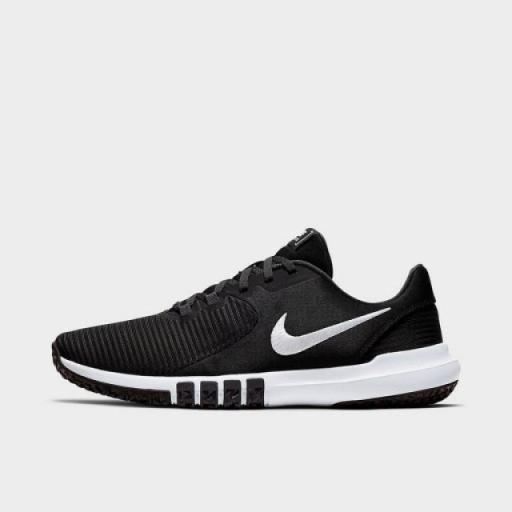Nike: (260, 303, 403, 364)
